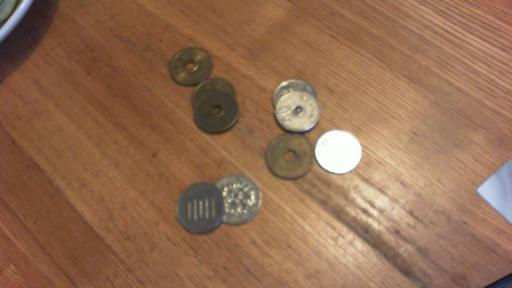100yen: (176, 182, 223, 234), (216, 177, 262, 224)
1yen: (314, 129, 361, 174)
50yen: (275, 89, 320, 133)
5yen: (265, 133, 313, 179), (193, 89, 239, 134), (169, 47, 212, 86)
